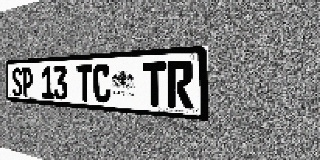1: (41, 66, 54, 99)
3: (53, 66, 67, 100)
C: (93, 64, 111, 103)
P: (22, 67, 33, 98)
R: (167, 60, 194, 109)
S: (12, 68, 22, 97)
T: (143, 62, 166, 107), (77, 65, 93, 102)
